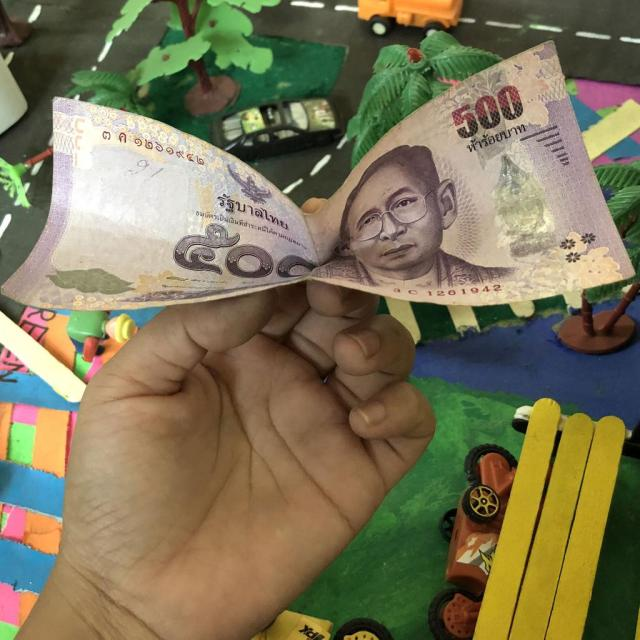THAI500: (2, 41, 633, 310)
